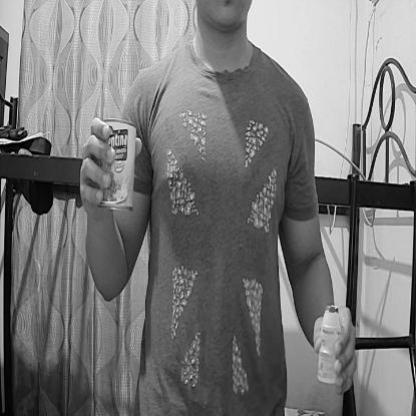Can: (98, 118, 138, 212)
Others: (316, 301, 348, 385)
